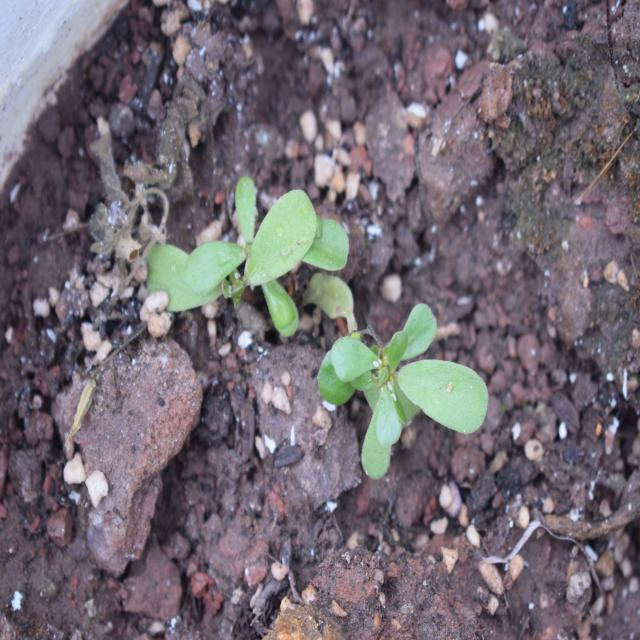purslane: (260, 266, 502, 509)
